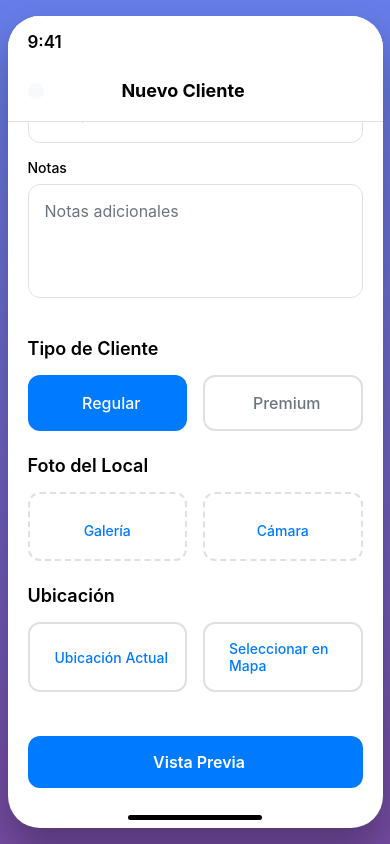
Test: NewClientScreen › Location › opens map modal when select location button is pressed
The width and height of the screenshot is (390, 844).
(page scrolled)
Click the text "Seleccionar en Mapa" at (287, 657), box [229, 640, 344, 674]
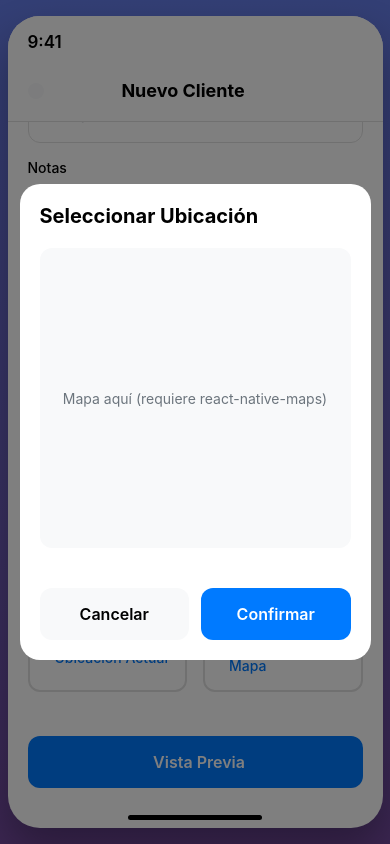
Expected: the text "Seleccionar Ubicación" is shown, [40, 204, 258, 228]
